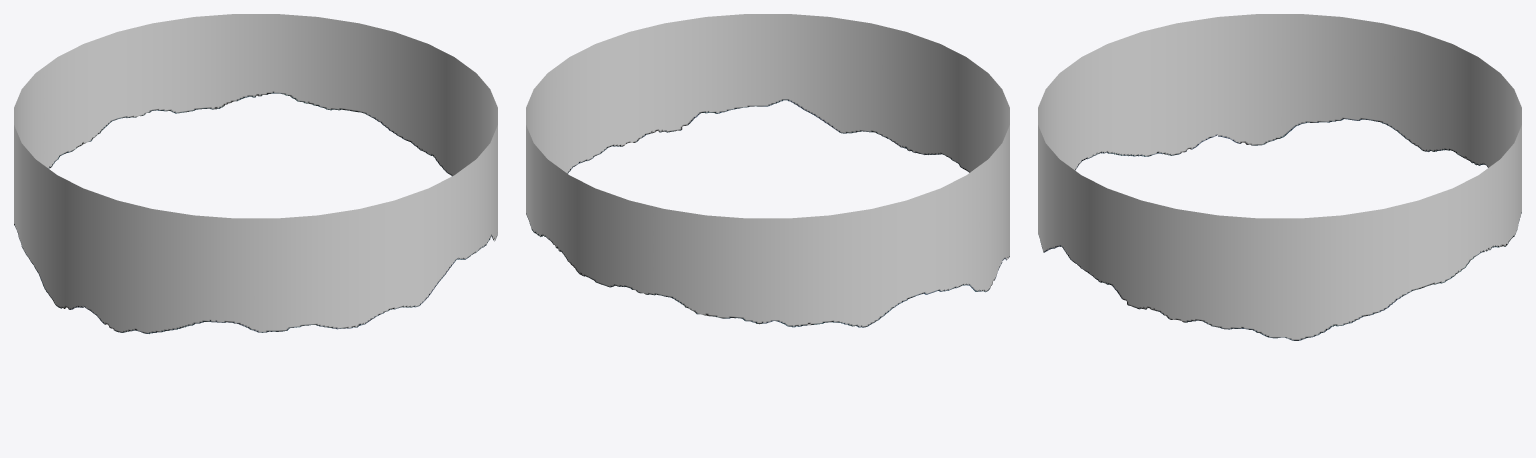
File: mountain.FBX
3 renders of one model, left to right at view 1: azimuth 30°, elevation 25°; view 2: azimuth 150°, elevation 25°; view 3: azimuth 270°, elevation 25°, orthographic.
Visible parts, largest first — view 1: Cylinder001; view 2: Cylinder001; view 3: Cylinder001.
Boxes of the visible parts, left/top/right/bottom form: Cylinder001: left=14, top=14, right=497, bottom=333; Cylinder001: left=526, top=14, right=1009, bottom=327; Cylinder001: left=1038, top=14, right=1521, bottom=340.
Size of the model in its own units: 157 by 80.75 by 157.
Materials: 1 (1 with a texture image).
